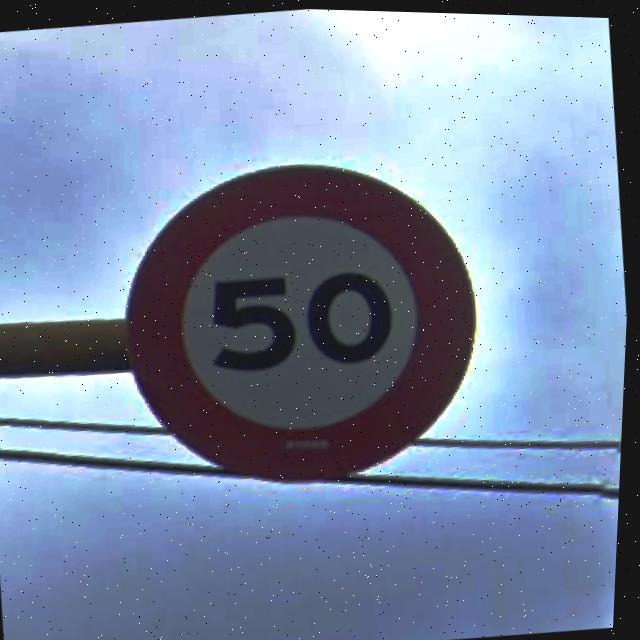max50: (103, 136, 502, 502)
